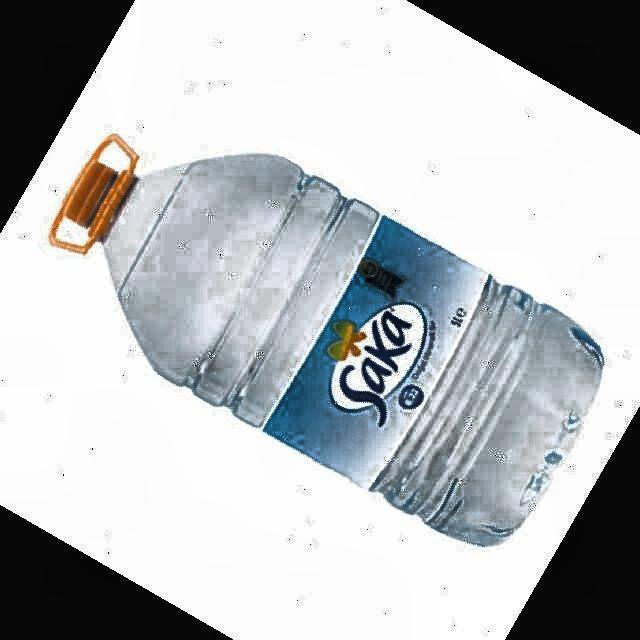plastic: (51, 136, 604, 544)
